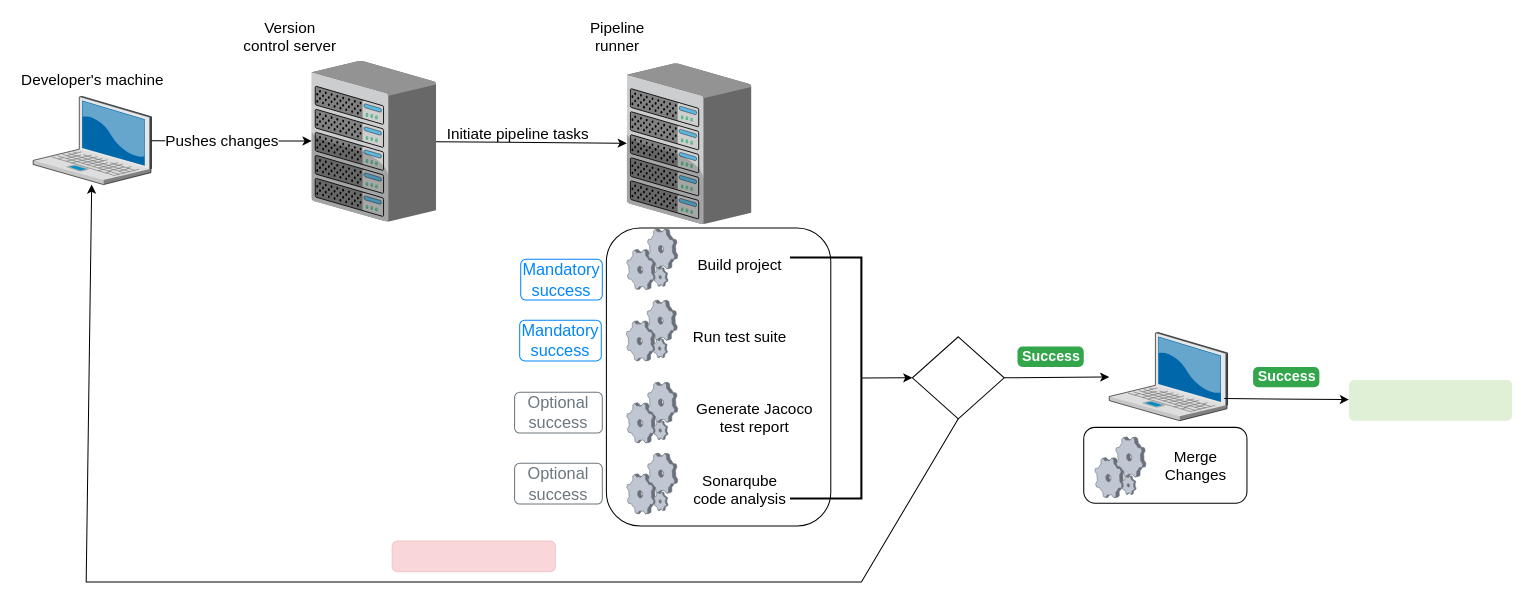
The diagram is 1530 pixels wide and 608 high, and some of its shapes have lost their labels. Each missing label, with the centre of its shape:
Application is ready to be deployed: pixel 1430 399
Changes needed to fix errors: pixel 473 556
Success?: pixel 957 377
